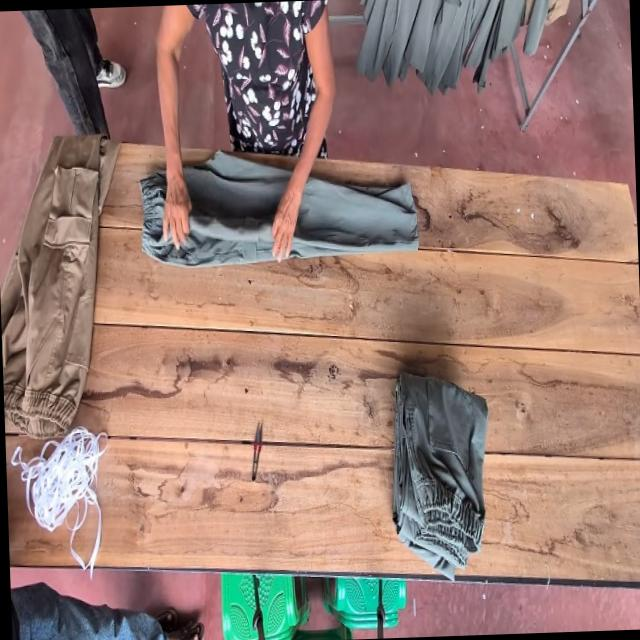new-garment: (139, 151, 290, 266), (290, 178, 417, 256)
